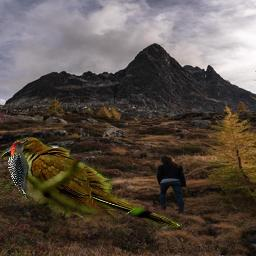Cuckoo: (0, 135, 182, 230)
Woodpecker: (7, 139, 33, 197)
